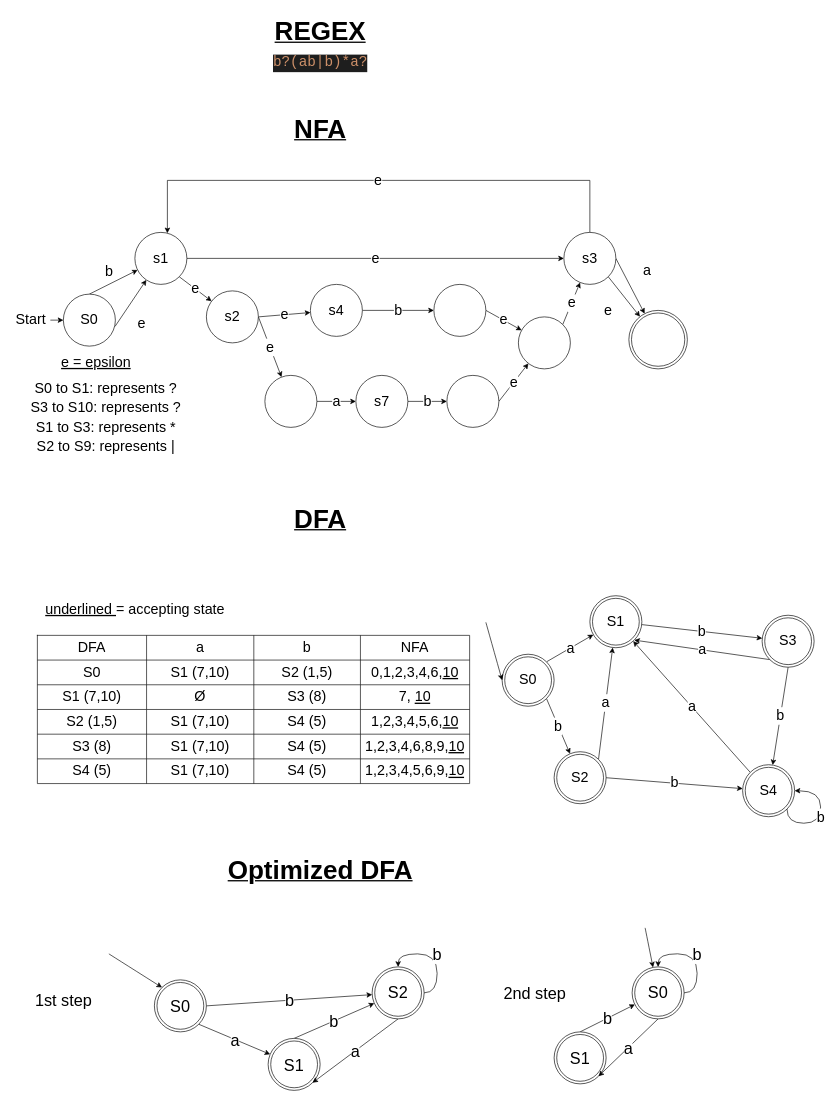
The diagram is 835 pixels wide and 1102 high, and some of its shapes have lost their labels. Each missing label, with the centre of its shape:
"s10" belongs at (657,339).
"s5" belongs at (459,310).
"s6" belongs at (290,401).
"s8" belongs at (472,401).
"s9" belongs at (544,342).
